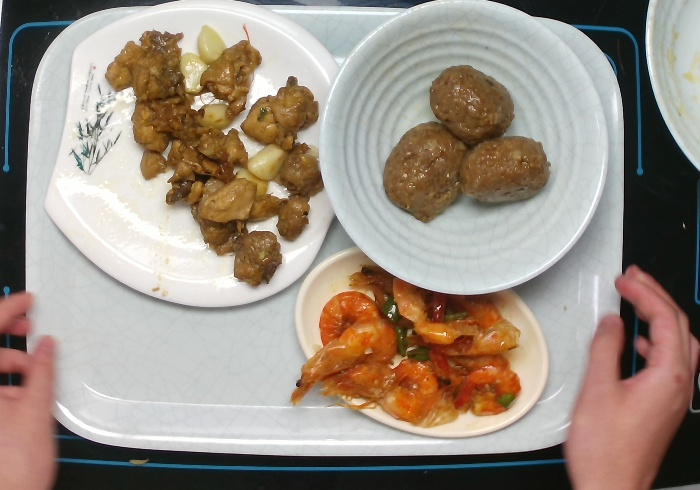JYsf-Mian_Pan: (43, 1, 345, 314)
JYsf-Tuo_Yuan_Wan: (294, 241, 552, 437)
JYsf-Xiao_Tang_Wan: (318, 1, 610, 298)
